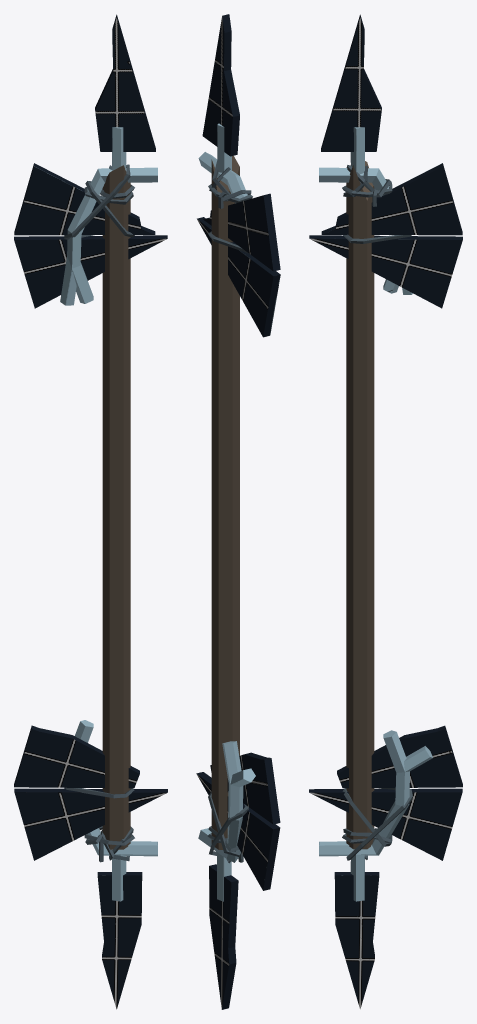
The model's file is Weapon.fbx.
The picture shows the model from 3 angles, left to right: view 1: azimuth 90°, elevation 25°; view 2: azimuth 210°, elevation 25°; view 3: azimuth 270°, elevation 25°; orthographic projection.
Visible parts, largest first — view 1: Weapon; view 2: Weapon; view 3: Weapon.
Part boxes in pixels (x1=…): Weapon: x1=14, y1=14, x2=167, y2=1009; Weapon: x1=196, y1=14, x2=280, y2=1009; Weapon: x1=309, y1=14, x2=462, y2=1009.
Bounding box in the file's own units: 60.49 × 207 × 1476.
